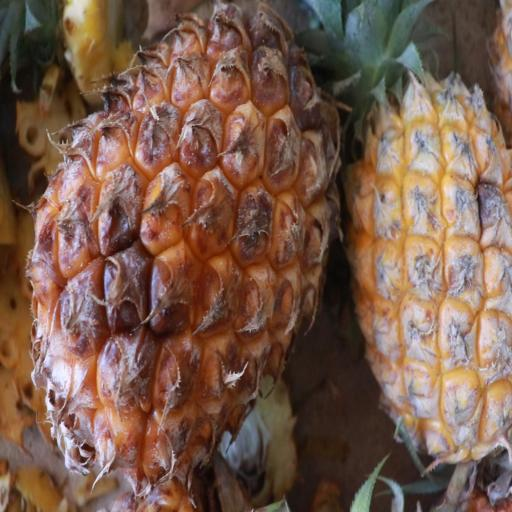Pineapple - v8 v1: (27, 11, 339, 499), (341, 2, 512, 480)
